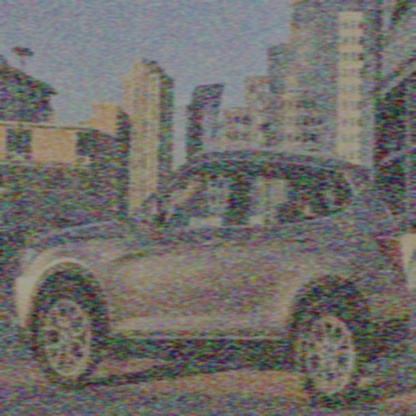Vehicle: (9, 142, 412, 408)
